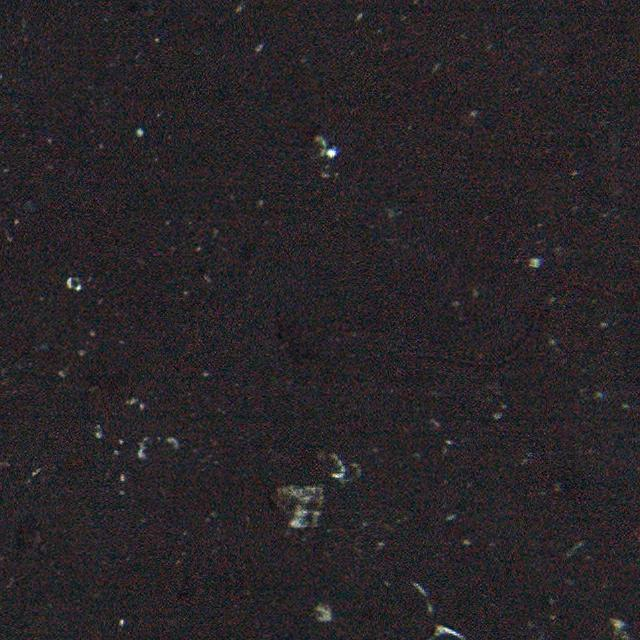eel: (409, 283, 635, 370)
